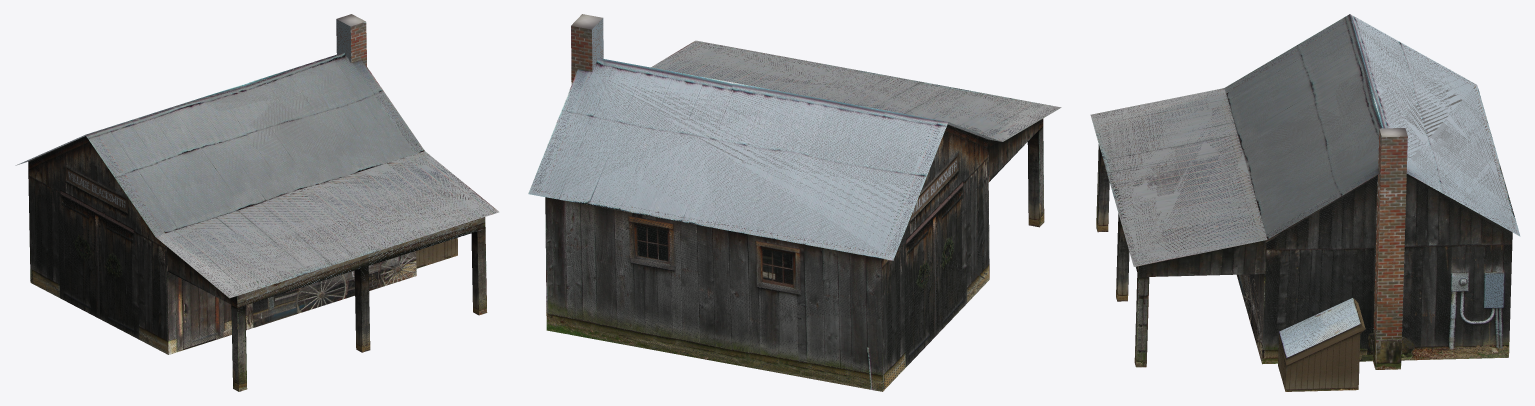
File: blacksmithhouse.dae
3 renders of one model, left to right at view 1: azimuth 30°, elevation 25°; view 2: azimuth 150°, elevation 25°; view 3: azimuth 270°, elevation 25°, orthographic. The views are drawn at different scales.
Parts seen in each view (by area): view 1: group_0 (×19); view 2: group_0 (×11); view 3: group_0 (×17).
Boxes of the visible parts, box(x1,y1,x2,y2) form: group_0 (×19): box(28, 19, 499, 391); group_0 (×11): box(528, 18, 1061, 391); group_0 (×17): box(1090, 14, 1520, 391).
Size of the model in its own units: 368 by 357 by 217.
Materials: 52 (45 with a texture image).
